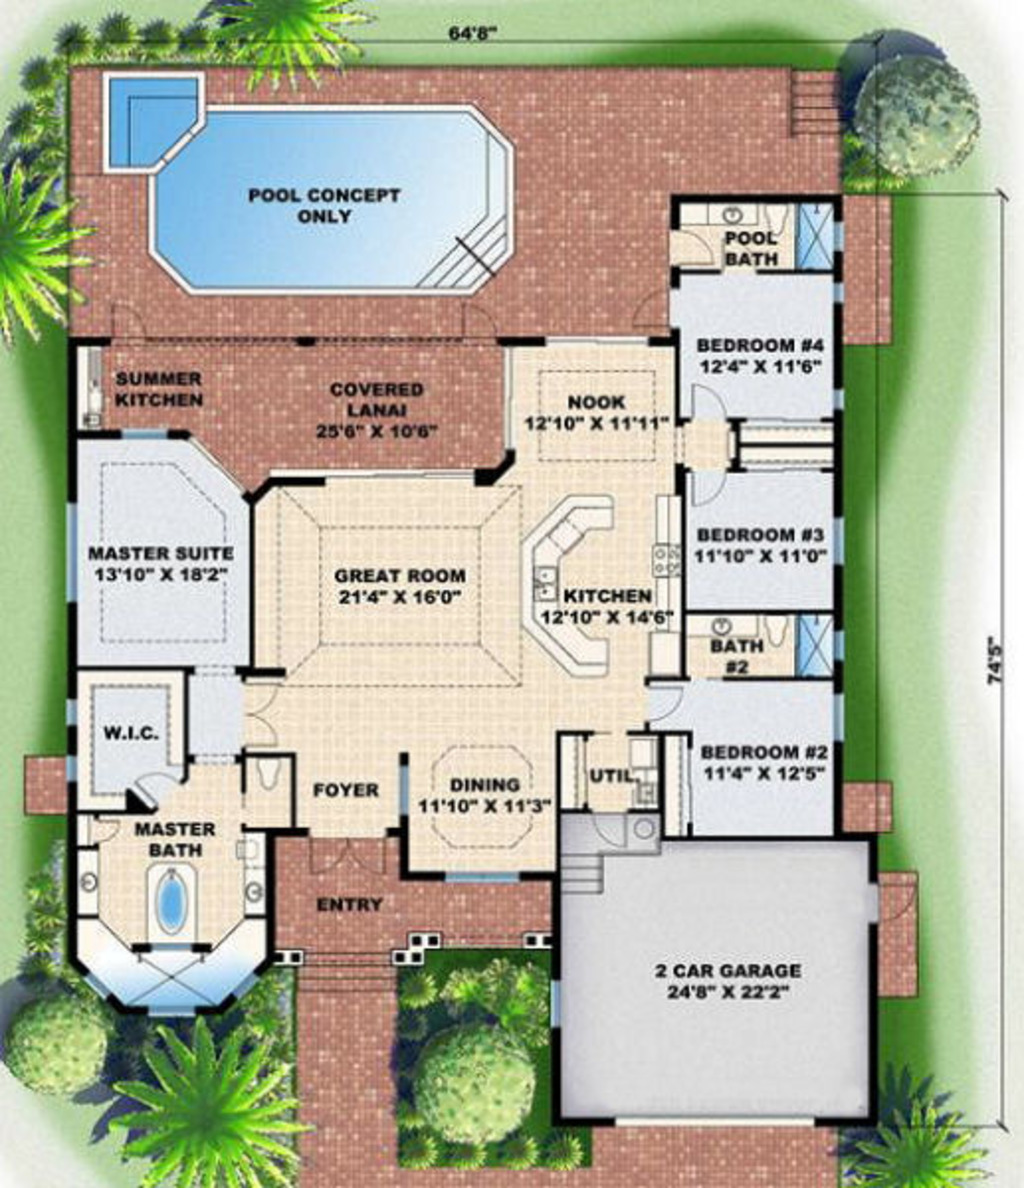door: (239, 676, 277, 751), (664, 227, 719, 276), (128, 769, 178, 809), (642, 681, 685, 727), (582, 807, 629, 848), (688, 467, 730, 507), (687, 380, 728, 419)
kitchen_bar: (515, 490, 618, 675)
small_sink: (688, 614, 761, 640), (77, 847, 100, 916), (243, 871, 264, 918)
tub: (143, 861, 201, 948)
